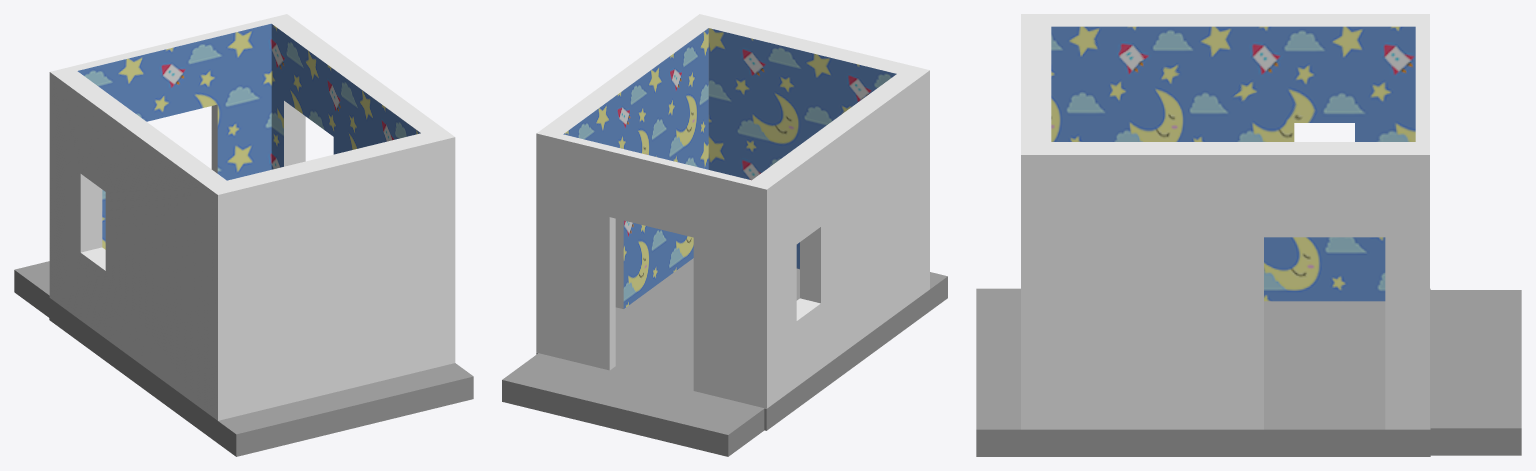
Rendered from WallsEdited.fbx.
3 renders of one model, left to right at view 1: azimuth 30°, elevation 25°; view 2: azimuth 150°, elevation 25°; view 3: azimuth 270°, elevation 25°, orthographic. The views are drawn at different scales.
Visible parts, largest first — view 1: pCube11, pCube13, pCube12; view 2: pCube11, pCube12, pCube13; view 3: pCube11, pCube13, pCube12.
Boxes of the visible parts, x1,y1,x2,y2 form: pCube11: (49,14,455,420); pCube13: (49,298,473,456); pCube12: (14,261,49,317); pCube11: (536,14,929,408); pCube12: (502,353,764,456); pCube13: (536,258,947,430); pCube11: (1021,14,1429,429); pCube13: (976,288,1430,456); pCube12: (1430,290,1521,455).
Bounding box in the file's own units: 11 × 11 × 18.
Materials: 2 (1 with a texture image).
